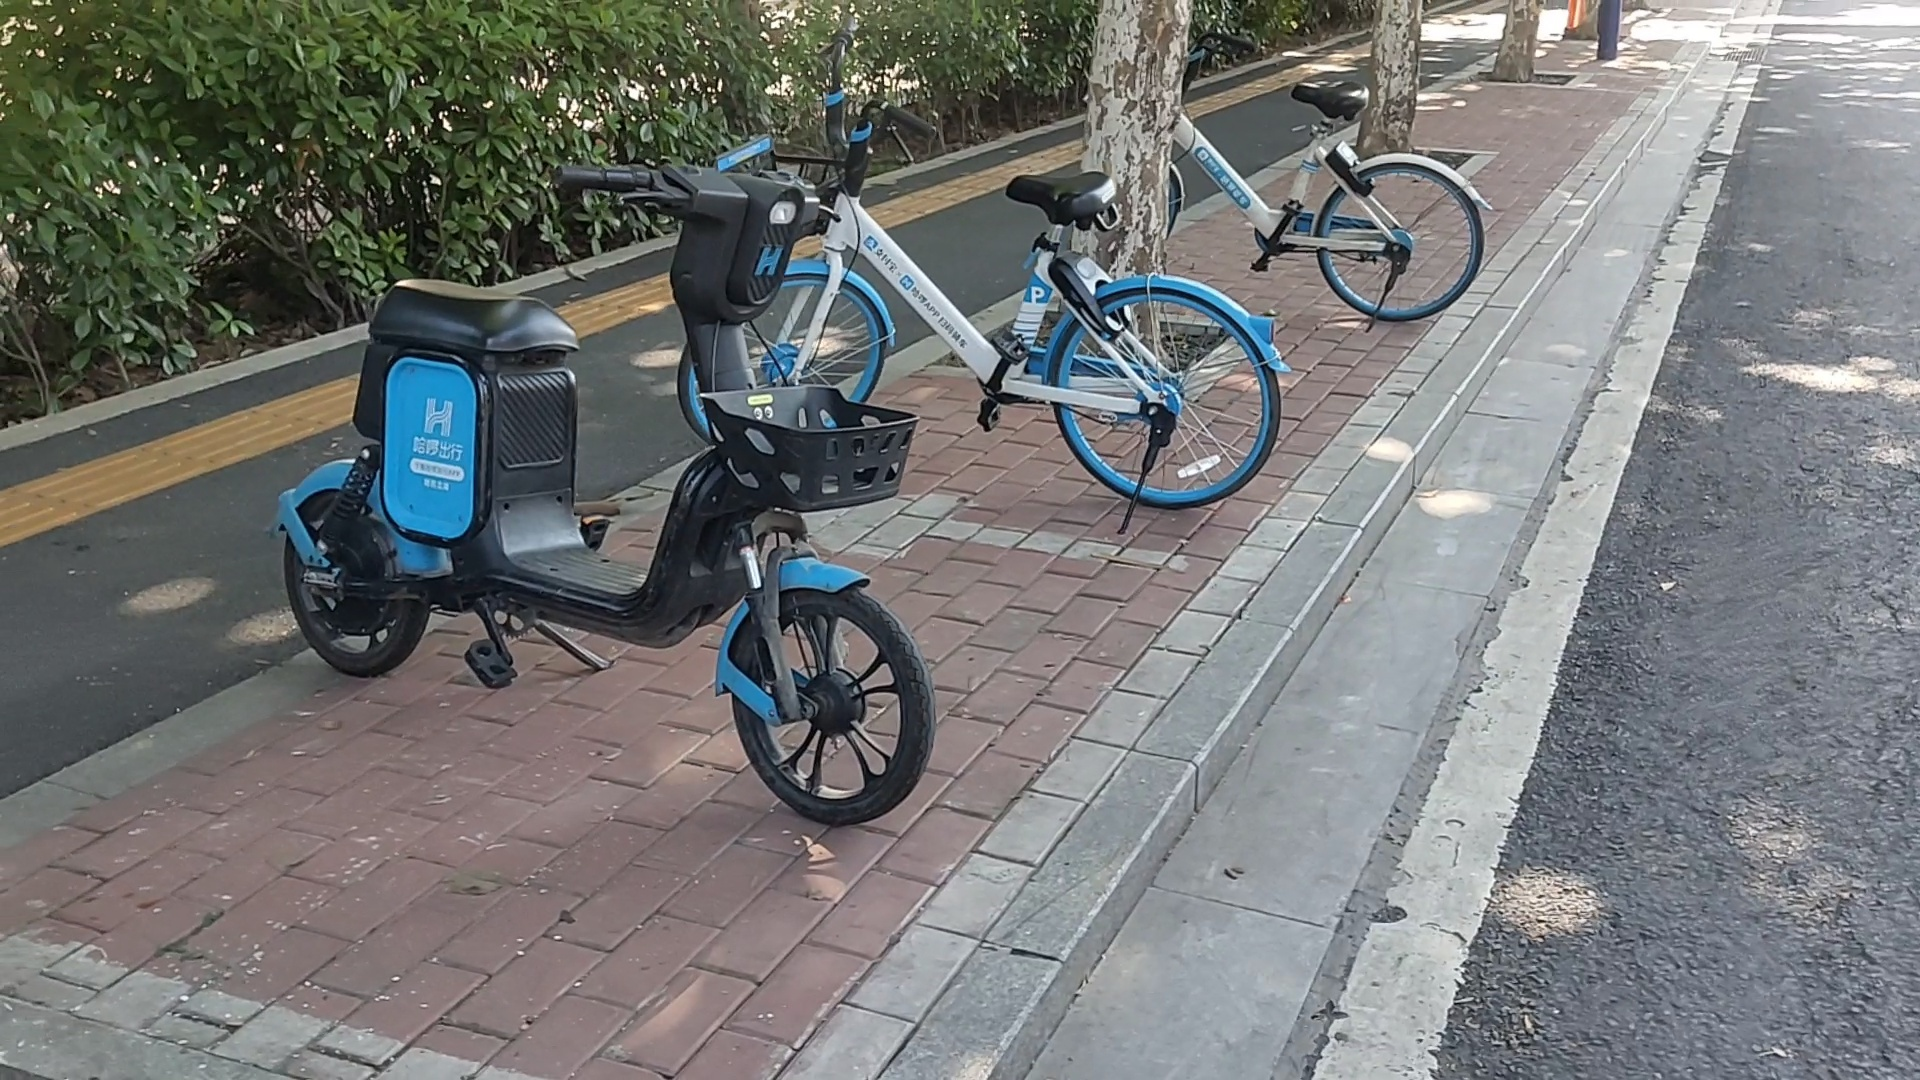non-vehicle: (239, 94, 942, 887), (667, 100, 1280, 510), (1054, 36, 1495, 327)
